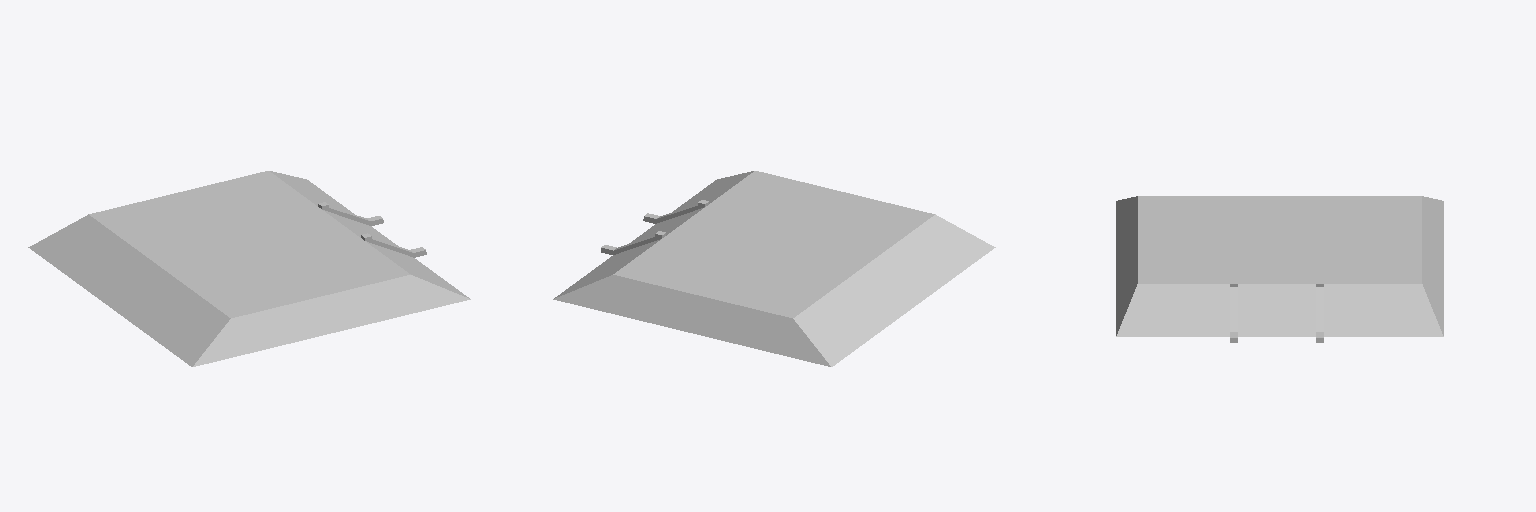
The model's file is Moundwstairs.obj.
The picture shows the model from 3 angles: view 1: azimuth 30°, elevation 25°; view 2: azimuth 150°, elevation 25°; view 3: azimuth 270°, elevation 25°; orthographic projection.
Parts seen in each view (by area): view 1: Moundwstairs; view 2: Moundwstairs; view 3: Moundwstairs.
Part boxes in pixels (left/top/right/bottom): Moundwstairs: left=28, top=171, right=470, bottom=366; Moundwstairs: left=553, top=171, right=995, bottom=366; Moundwstairs: left=1116, top=196, right=1443, bottom=342.
Bounding box in the file's own units: 40.52 × 4.24 × 39.46.